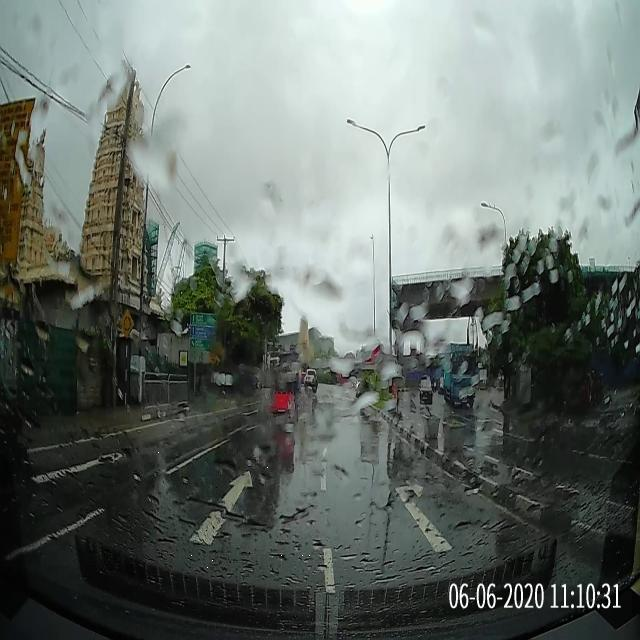forward: (87, 448, 336, 569)
